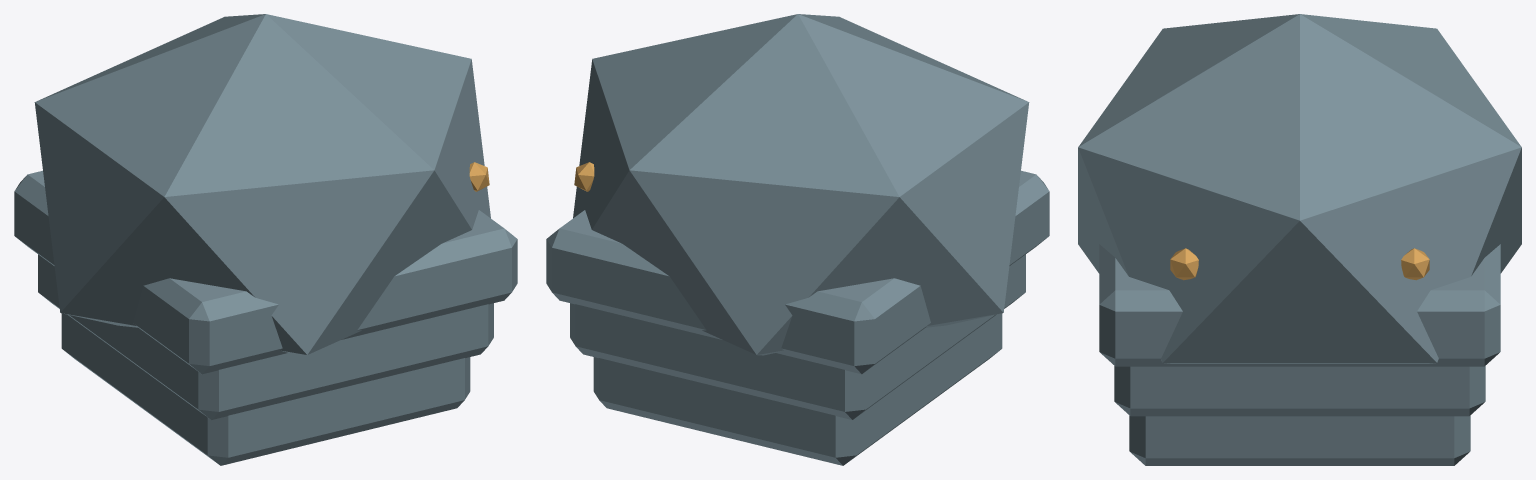
Rendered from SM_Life_Shoulder_Iron.fbx.
The picture shows the model from 3 angles, left to right: view 1: azimuth 30°, elevation 25°; view 2: azimuth 150°, elevation 25°; view 3: azimuth 270°, elevation 25°; orthographic projection. The views are drawn at different scales.
Visible parts, largest first — view 1: SM_Life_Shoulder_Iron; view 2: SM_Life_Shoulder_Iron; view 3: SM_Life_Shoulder_Iron.
Part boxes in pixels (<box>): SM_Life_Shoulder_Iron: <box>14,14,517,465</box>; SM_Life_Shoulder_Iron: <box>546,14,1049,465</box>; SM_Life_Shoulder_Iron: <box>1078,14,1521,465</box>.
Size of the model in its own units: 25.04 by 21.5 by 22.12.
